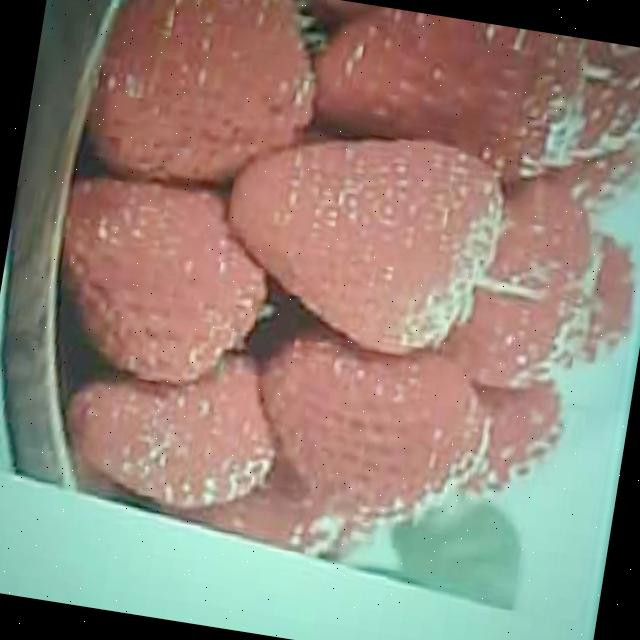strawberry: (216, 115, 510, 368), (47, 172, 275, 383), (94, 0, 329, 198), (246, 336, 476, 524)
